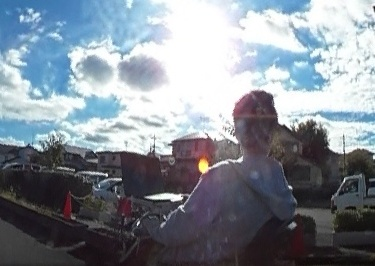person: (144, 88, 290, 257)
